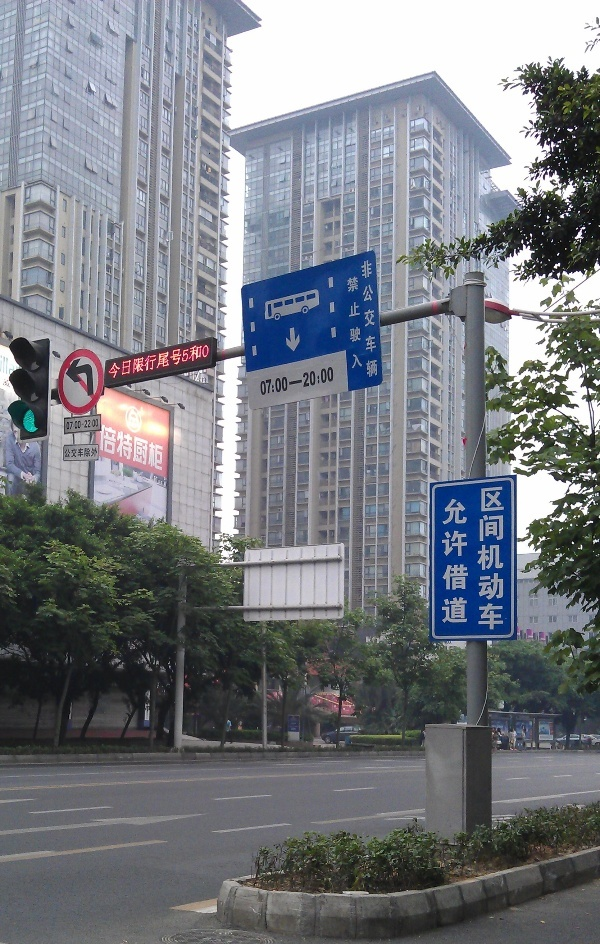text: (481, 485, 496, 630), (449, 497, 464, 623), (369, 258, 379, 378), (497, 485, 505, 630), (353, 273, 365, 368), (360, 258, 368, 378), (442, 497, 448, 623), (113, 423, 128, 473), (129, 423, 144, 473), (145, 423, 160, 473), (193, 343, 209, 381), (100, 423, 112, 473), (113, 343, 128, 381), (129, 343, 144, 381), (145, 343, 160, 381), (161, 343, 176, 381), (177, 343, 192, 381), (465, 497, 469, 623), (273, 367, 288, 397), (289, 367, 304, 397), (305, 367, 320, 397), (259, 367, 272, 397), (321, 367, 334, 397), (348, 273, 352, 368), (161, 423, 165, 473), (81, 418, 96, 431), (66, 418, 80, 431), (65, 448, 80, 458), (81, 448, 96, 458), (479, 485, 480, 630), (109, 343, 112, 381), (97, 448, 99, 458), (97, 418, 98, 431)
